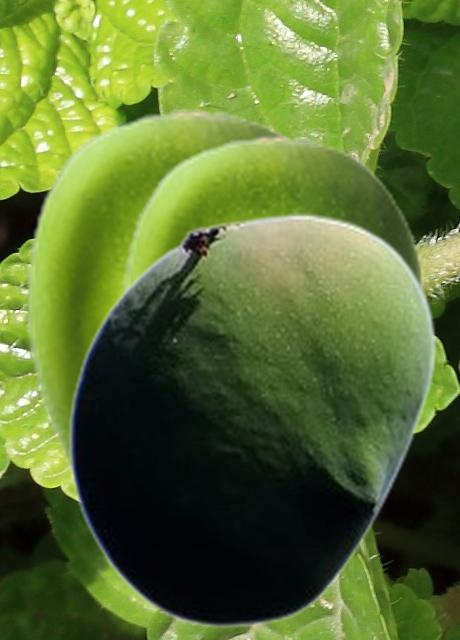green_mango: (67, 212, 437, 627), (24, 108, 295, 492), (120, 134, 425, 289)
